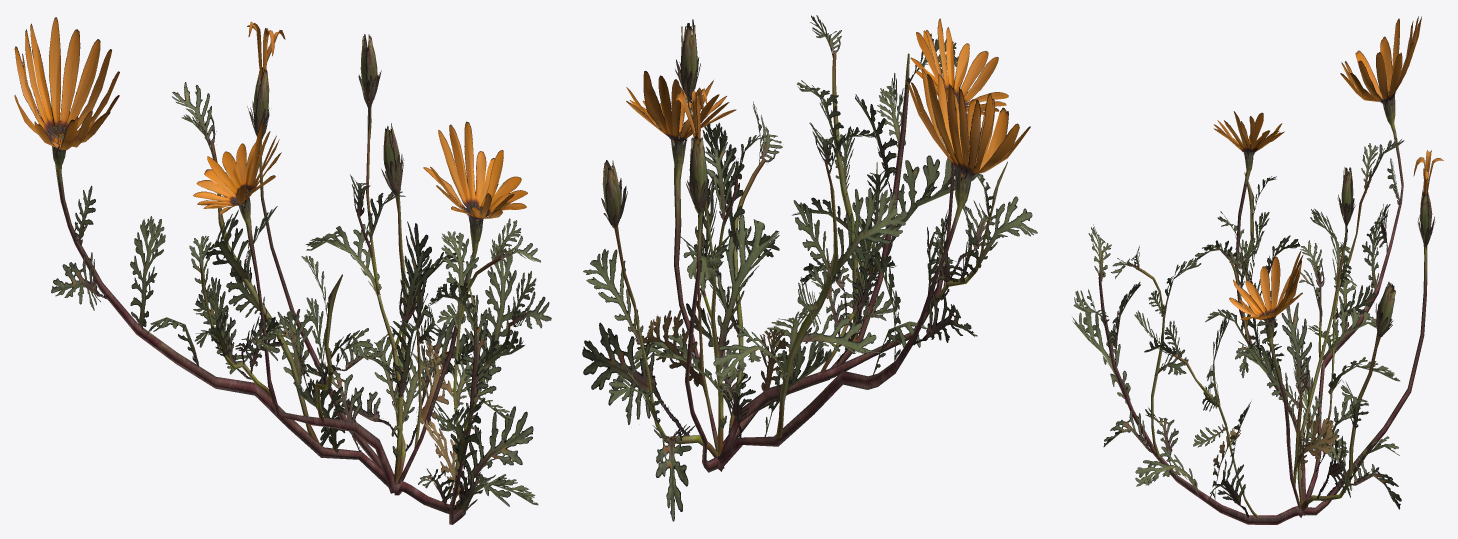
The model's file is flower_ursinia_single_2.fbx.
3 views of the same model, side by side, from view 1: azimuth 30°, elevation 25°; view 2: azimuth 150°, elevation 25°; view 3: azimuth 270°, elevation 25° (orthographic). The views are drawn at different scales.
Visible parts, largest first — view 1: flower_ursinia_single_2; view 2: flower_ursinia_single_2; view 3: flower_ursinia_single_2.
Part boxes in pixels (x1,y1,x2,y2): flower_ursinia_single_2: [14, 17, 551, 524]; flower_ursinia_single_2: [582, 15, 1037, 521]; flower_ursinia_single_2: [1072, 16, 1443, 524].
Size of the model in its own units: 0.2772 by 0.3 by 0.2598.
1 material, 1 textured.
